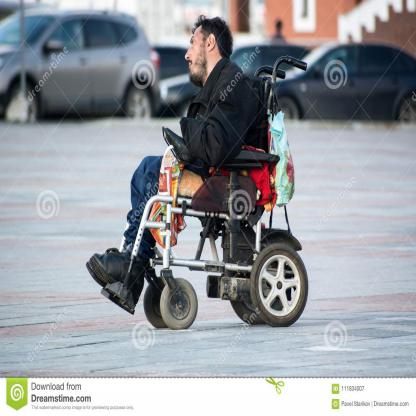wheelchair: (93, 13, 314, 333)
